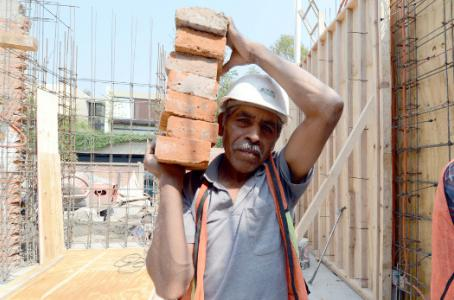casco: (216, 71, 289, 125)
